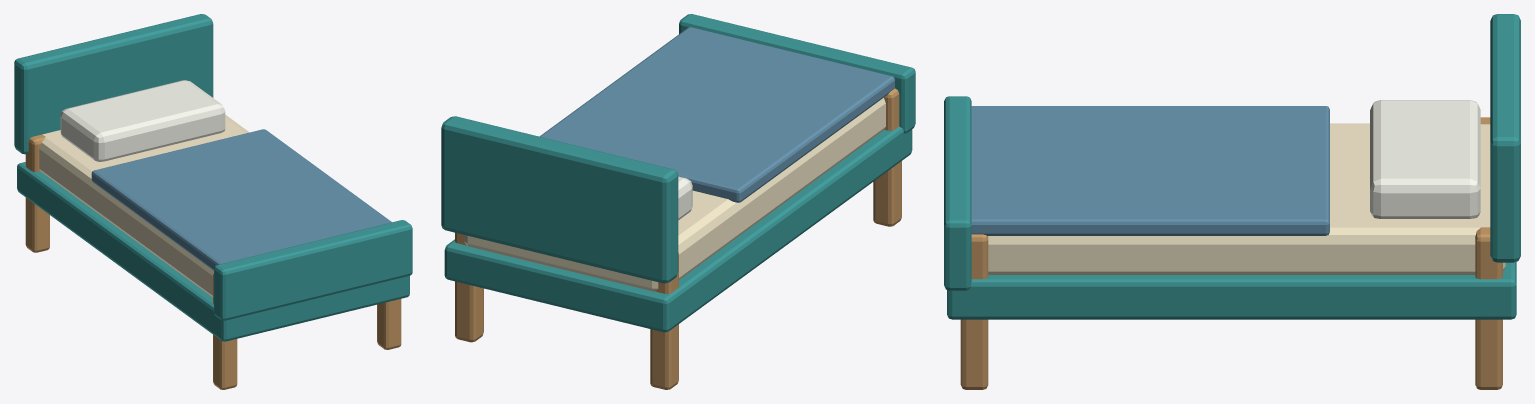
Rendered from S033_single_bed.glb.
The picture shows the model from 3 angles, left to right: view 1: azimuth 30°, elevation 25°; view 2: azimuth 150°, elevation 25°; view 3: azimuth 270°, elevation 25°; orthographic projection. The views are drawn at different scales.
Parts seen in each view (by area): view 1: blanket, headboard, footboard, bed_frame, pillow, mattress, bed_leg.001, bed_leg, bed_leg.002; view 2: blanket, headboard, bed_frame, mattress, footboard, bed_leg, bed_leg.001, bed_leg.003, pillow; view 3: blanket, mattress, bed_frame, pillow, headboard, footboard, bed_leg.003, bed_leg.002.
Part boxes in pixels (<box>): blanket: <box>91,129,391,270</box>; headboard: <box>14,14,213,154</box>; footboard: <box>214,220,412,320</box>; bed_frame: <box>17,162,409,341</box>; pillow: <box>60,80,225,161</box>; mattress: <box>39,115,249,297</box>; bed_leg.001: <box>25,134,49,252</box>; bed_leg: <box>213,273,237,389</box>; bed_leg.002: <box>377,299,401,349</box>; blanket: <box>539,27,894,202</box>; headboard: <box>441,116,678,283</box>; bed_frame: <box>444,126,912,332</box>; mattress: <box>463,97,885,291</box>; footboard: <box>679,14,915,133</box>; bed_leg: <box>873,88,901,226</box>; bed_leg.001: <box>650,252,678,389</box>; bed_leg.003: <box>455,232,483,342</box>; pillow: <box>678,176,692,220</box>; blanket: <box>971,106,1329,235</box>; mattress: <box>988,123,1505,274</box>; bed_frame: <box>947,262,1516,319</box>; pillow: <box>1370,100,1480,218</box>; headboard: <box>1490,14,1520,262</box>; footboard: <box>944,96,971,290</box>; bed_leg.003: <box>1475,227,1502,389</box>; bed_leg.002: <box>960,234,988,389</box>.
Bounding box in the file's own units: 1.1 × 1.02 × 2.09.
